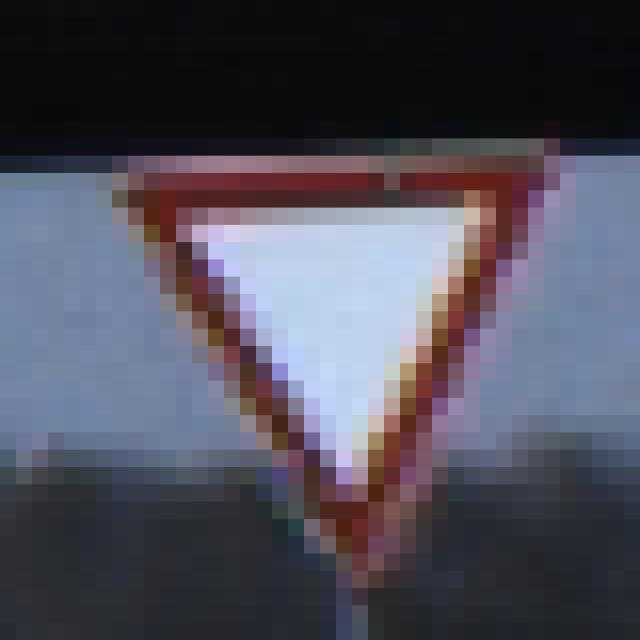Give Way: (97, 105, 561, 554)
